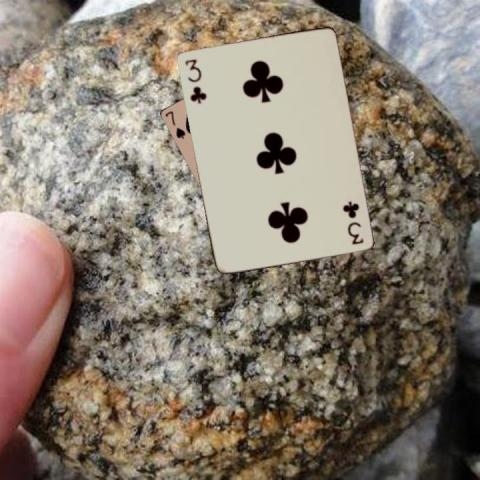3c: (181, 56, 208, 105), (340, 197, 364, 246)
7s: (163, 108, 187, 140)
